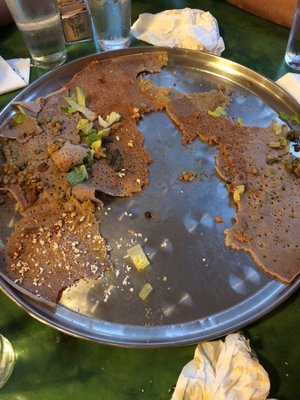pizza: (85, 0, 132, 53)
sushi: (0, 39, 299, 349)
